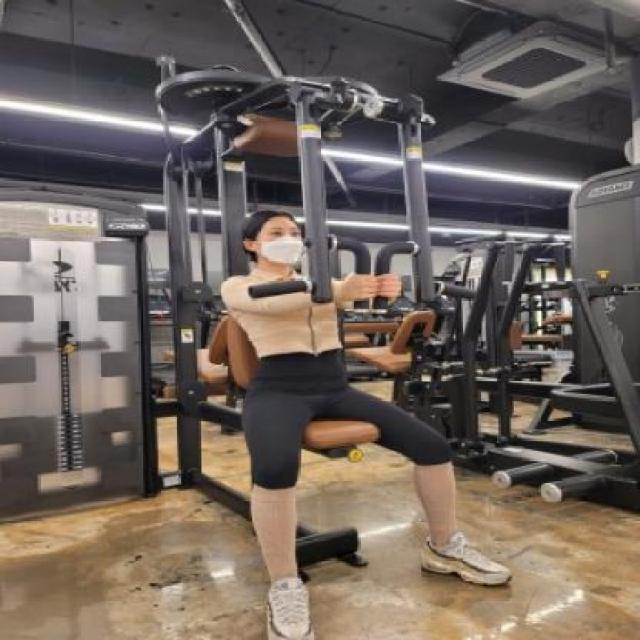chest fly machine: (80, 0, 546, 640)
